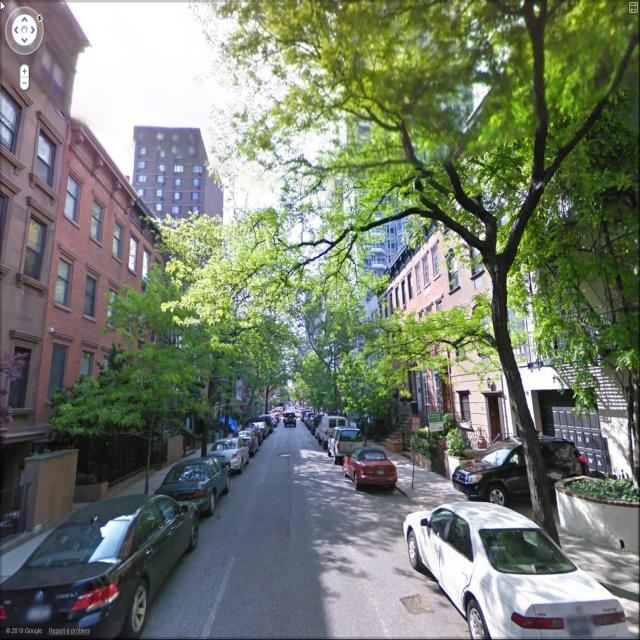b_1: (0, 10, 63, 418), (39, 132, 119, 422), (133, 127, 230, 235)
b_2: (515, 1, 640, 459), (326, 1, 476, 287), (442, 100, 540, 413), (114, 209, 213, 440), (354, 217, 456, 425), (278, 280, 356, 422), (206, 281, 280, 425)
